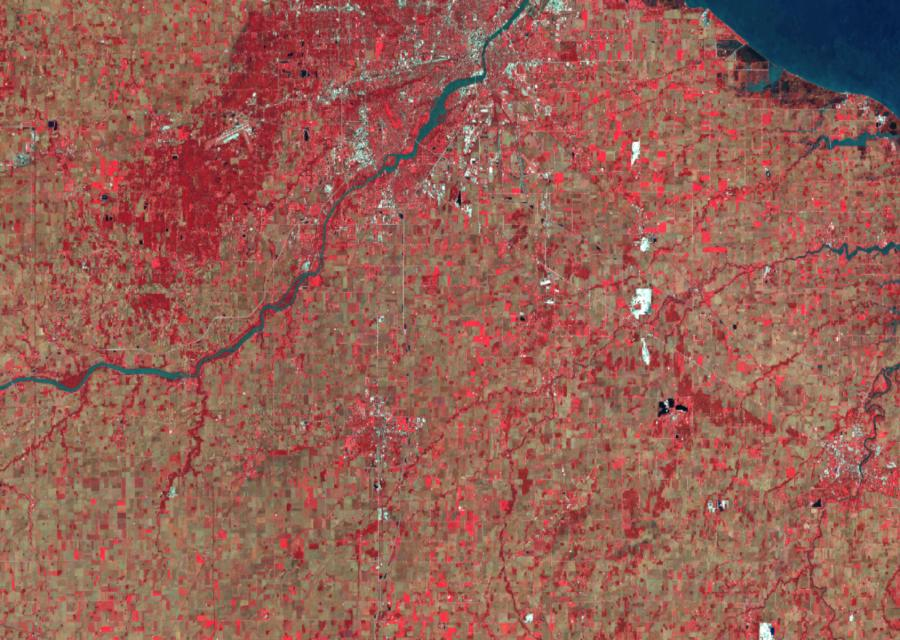Potential Lime Manufacturing Facility: (630, 287, 652, 319)
